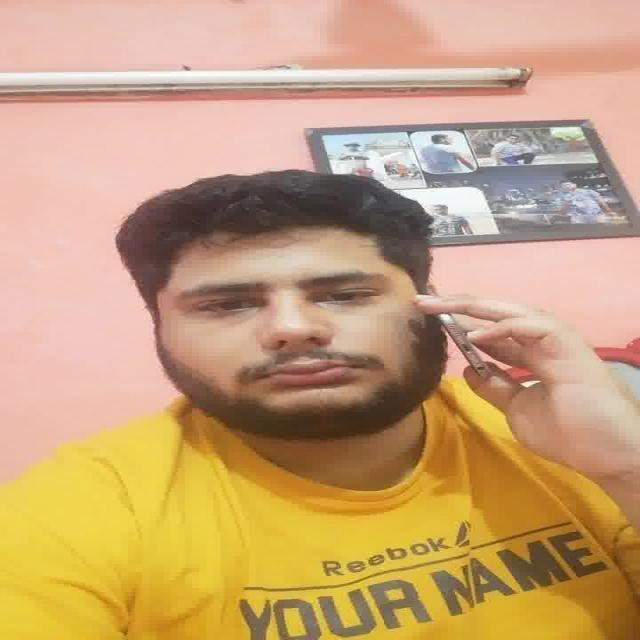Phone: (438, 308, 491, 380)
